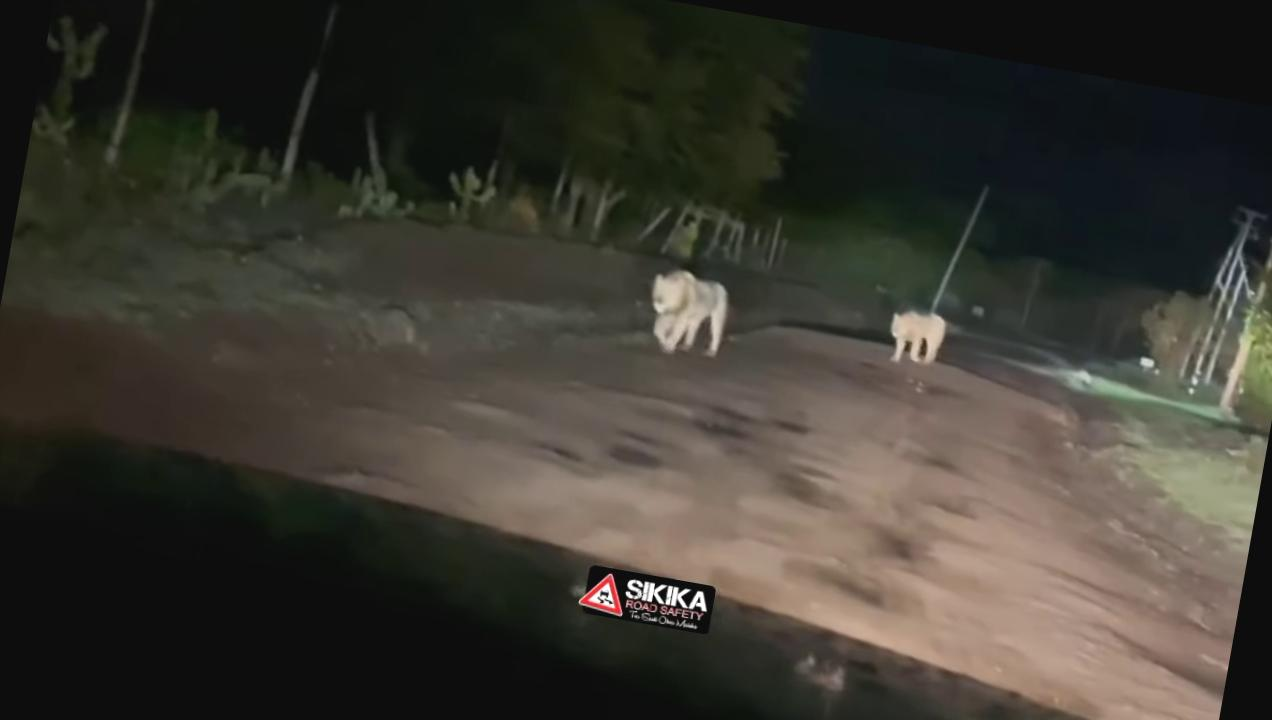lions: (632, 257, 742, 380), (871, 284, 964, 398)
